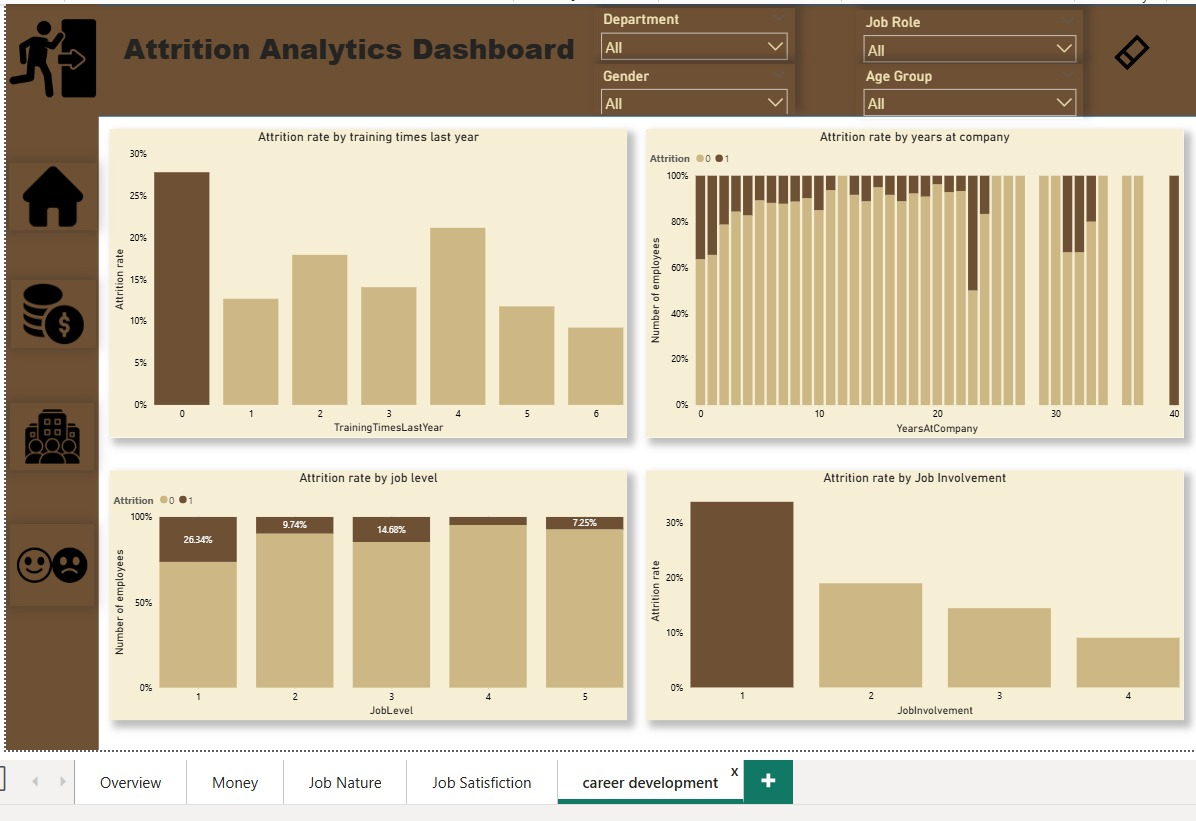

This screenshot's page, from the dashboard's own definition file:
{"tool":"powerbi","page":{"name":"career development","canvas":[1600,1000],"ordinal":4},"visuals":[{"type":"hundredPercentStackedColumnChart","title":"Attrition rate by years at company","fields":{"Category":["HR-Employee-Attrition.YearsAtCompany"],"Series":["HR-Employee-Attrition.Attrition"],"Y":["CountNonNull(HR-Employee-Attrition.EmployeeNumber)"]},"box":[857.9,167.6,720.5,413.9],"z":2000},{"type":"hundredPercentStackedColumnChart","title":"Attrition rate by job level","fields":{"Category":["HR-Employee-Attrition.JobLevel"],"Y":["CountNonNull(HR-Employee-Attrition.EmployeeNumber)"],"Series":["HR-Employee-Attrition.Attrition"]},"box":[139.1,625,693.7,335.1],"z":3000},{"type":"clusteredColumnChart","title":"Attrition rate by training times last year","fields":{"Category":["HR-Employee-Attrition.TrainingTimesLastYear"],"Y":["HR-Employee-Attrition.Attrition % by training"]},"box":[139.1,167.6,693.7,413.9],"z":5000},{"type":"clusteredColumnChart","title":"Attrition rate by Job Involvement","fields":{"Y":["measures (2).Attrition % by involv"],"Category":["HR-Employee-Attrition.JobInvolvement"]},"box":[857.9,625,720.5,335.1],"z":6000},{"type":"shape","box":[0,0,1600.2,150.8],"z":7000},{"type":"shape","box":[0,0,124,1000.3],"z":8000},{"type":"textbox","box":[152.5,28.5,635.1,73.7],"z":9000},{"type":"image","box":[0,8.4,125.7,129],"z":10000},{"type":"slicer","fields":{"Values":["HR-Employee-Attrition.Department"]},"box":[787.5,5,269.8,72.1],"z":11000},{"type":"slicer","fields":{"Values":["HR-Employee-Attrition.Gender"]},"box":[787.5,80.4,269.8,67],"z":12000},{"type":"slicer","fields":{"Values":["HR-Employee-Attrition.JobRole"]},"box":[1139.4,8.4,305,72.1],"z":13000},{"type":"slicer","fields":{"Values":["HR-Employee-Attrition.Age Group"]},"box":[1139.4,80.4,305,73.7],"z":14000},{"type":"actionButton","box":[1472.9,28.5,83.8,73.7],"z":15000},{"type":"image","box":[5,534.5,113.9,90.5],"z":16000},{"type":"image","box":[3.4,212.8,119,90.5],"z":17000},{"type":"image","box":[6.7,370.3,113.9,90.5],"z":18000},{"type":"image","box":[5,697.1,113.9,110.6],"z":19000}]}

Visuals, with their boxes on the page's 1600x1000 design canvas (x1, y1, x2, y2). These are canvas units, not pixel positions in the 1196x821 screenshot, which may show the page scaled, cropped or inside an application window:
"Attrition rate by years at company" hundredPercentStackedColumnChart: box=[858, 168, 1578, 582]
"Attrition rate by job level" hundredPercentStackedColumnChart: box=[139, 625, 833, 960]
"Attrition rate by training times last year" clusteredColumnChart: box=[139, 168, 833, 582]
"Attrition rate by Job Involvement" clusteredColumnChart: box=[858, 625, 1578, 960]
shape: box=[0, 0, 1600, 151]
shape: box=[0, 0, 124, 1000]
textbox: box=[152, 28, 788, 102]
image: box=[0, 8, 126, 137]
slicer - HR-Employee-Attrition.Department: box=[788, 5, 1057, 77]
slicer - HR-Employee-Attrition.Gender: box=[788, 80, 1057, 147]
slicer - HR-Employee-Attrition.JobRole: box=[1139, 8, 1444, 80]
slicer - HR-Employee-Attrition.Age Group: box=[1139, 80, 1444, 154]
actionButton: box=[1473, 28, 1557, 102]
image: box=[5, 534, 119, 625]
image: box=[3, 213, 122, 303]
image: box=[7, 370, 121, 461]
image: box=[5, 697, 119, 808]
